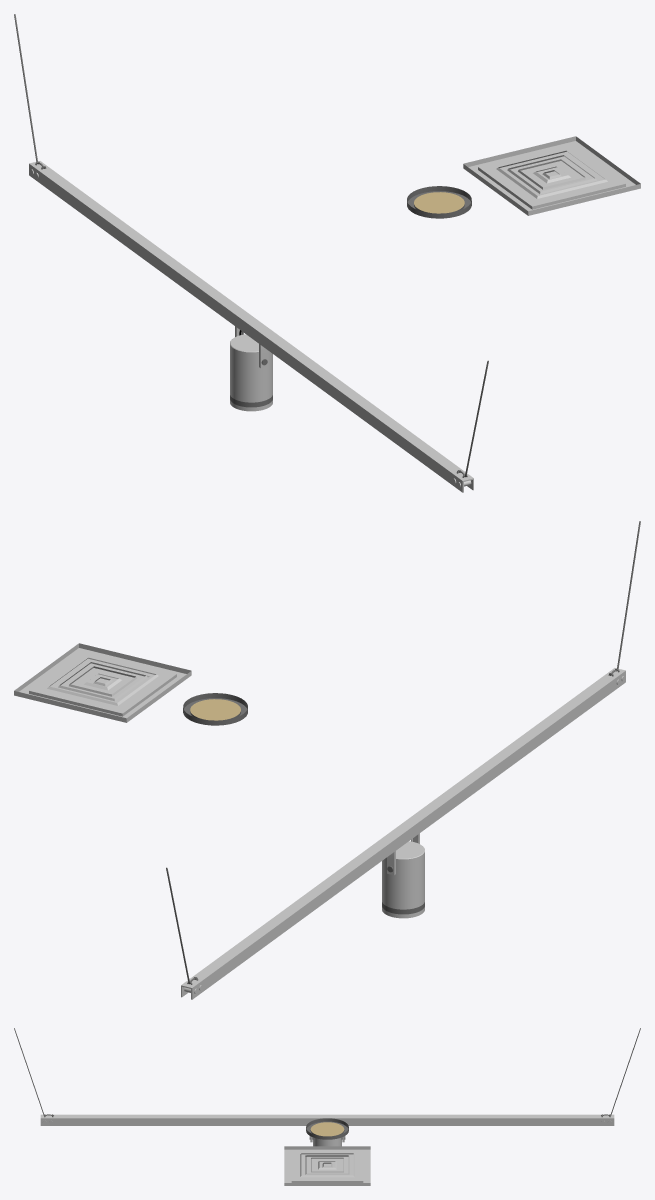
Rendered from lamps.fbx.
3 renders of one model, top to bottom at view 1: azimuth 30°, elevation 25°; view 2: azimuth 150°, elevation 25°; view 3: azimuth 270°, elevation 25°, orthographic. The views are drawn at different scales.
Parts seen in each view (by area): view 1: lamp_2_body, hood_1, lamp_2, lamp_1; view 2: lamp_2_body, hood_1, lamp_2, lamp_1; view 3: lamp_2_body, hood_1, lamp_1, lamp_2.
Part boxes in pixels (box(x1,y1,x2,y2)): lamp_2_body: box(14, 14, 488, 492); hood_1: box(463, 136, 640, 215); lamp_2: box(230, 334, 272, 411); lamp_1: box(407, 186, 471, 218); lamp_2_body: box(166, 521, 640, 999); hood_1: box(14, 643, 191, 722); lamp_2: box(382, 841, 424, 918); lamp_1: box(183, 693, 247, 725); lamp_2_body: box(14, 1028, 640, 1125); hood_1: box(284, 1146, 370, 1185); lamp_1: box(306, 1118, 348, 1139); lamp_2: box(309, 1136, 345, 1146).
Bounding box in the file's own units: 100 × 54.65 × 219.
